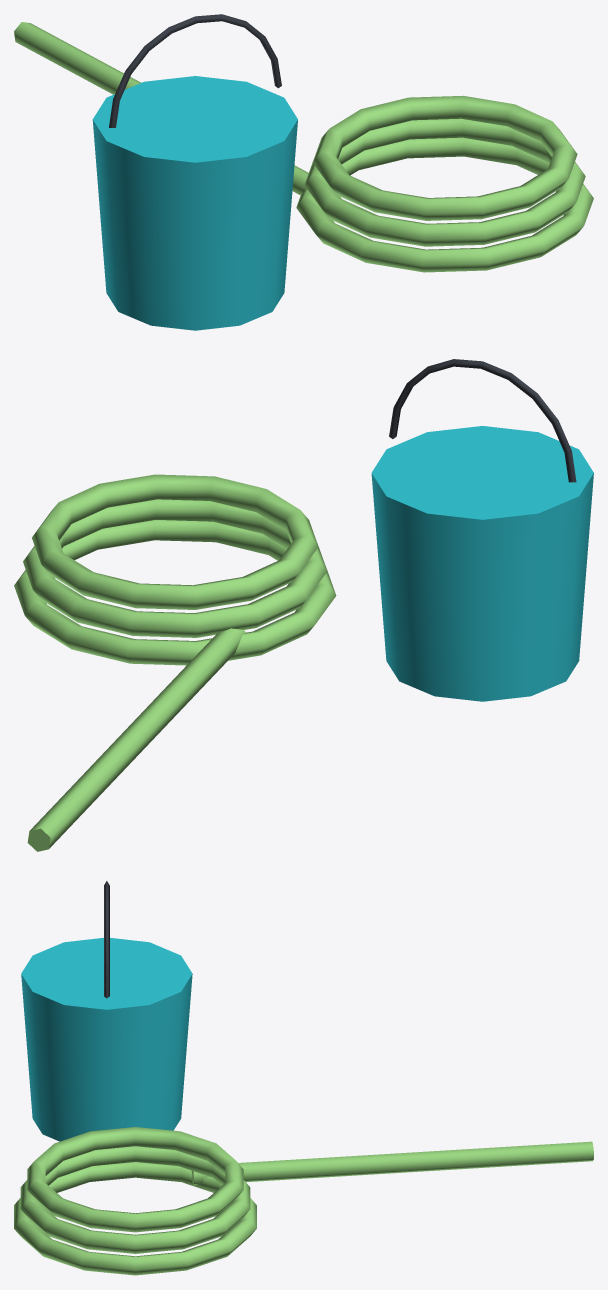
The model's file is station_transport_ausstattung_3_1.glb.
3 views of the same model, one above another, from view 1: azimuth 30°, elevation 25°; view 2: azimuth 150°, elevation 25°; view 3: azimuth 270°, elevation 25° (orthographic). The views are drawn at different scales.
Visible parts, largest first — view 1: station_transport_ausstattung_3_1; view 2: station_transport_ausstattung_3_1; view 3: station_transport_ausstattung_3_1.
Boxes of the visible parts, x1,y1,x2,y2 form: station_transport_ausstattung_3_1: [14, 14, 593, 330]; station_transport_ausstattung_3_1: [14, 359, 593, 851]; station_transport_ausstattung_3_1: [14, 881, 593, 1275].
Bounding box in the file's own units: 0.818 × 0.446 × 1.01.
